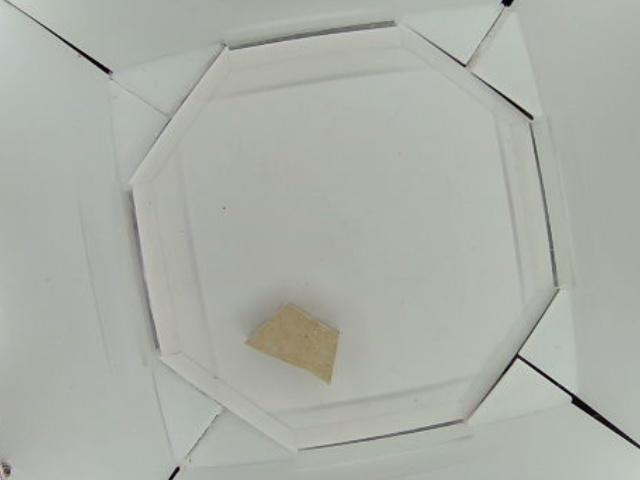China: (247, 300, 339, 382)
